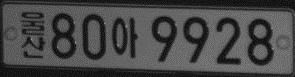0: (81, 12, 106, 60)
2: (215, 16, 241, 65)
8: (247, 17, 274, 65), (50, 12, 76, 59)
9: (150, 15, 177, 62), (183, 16, 210, 62)
아: (111, 16, 138, 57)
울산_V: (20, 11, 45, 58)
